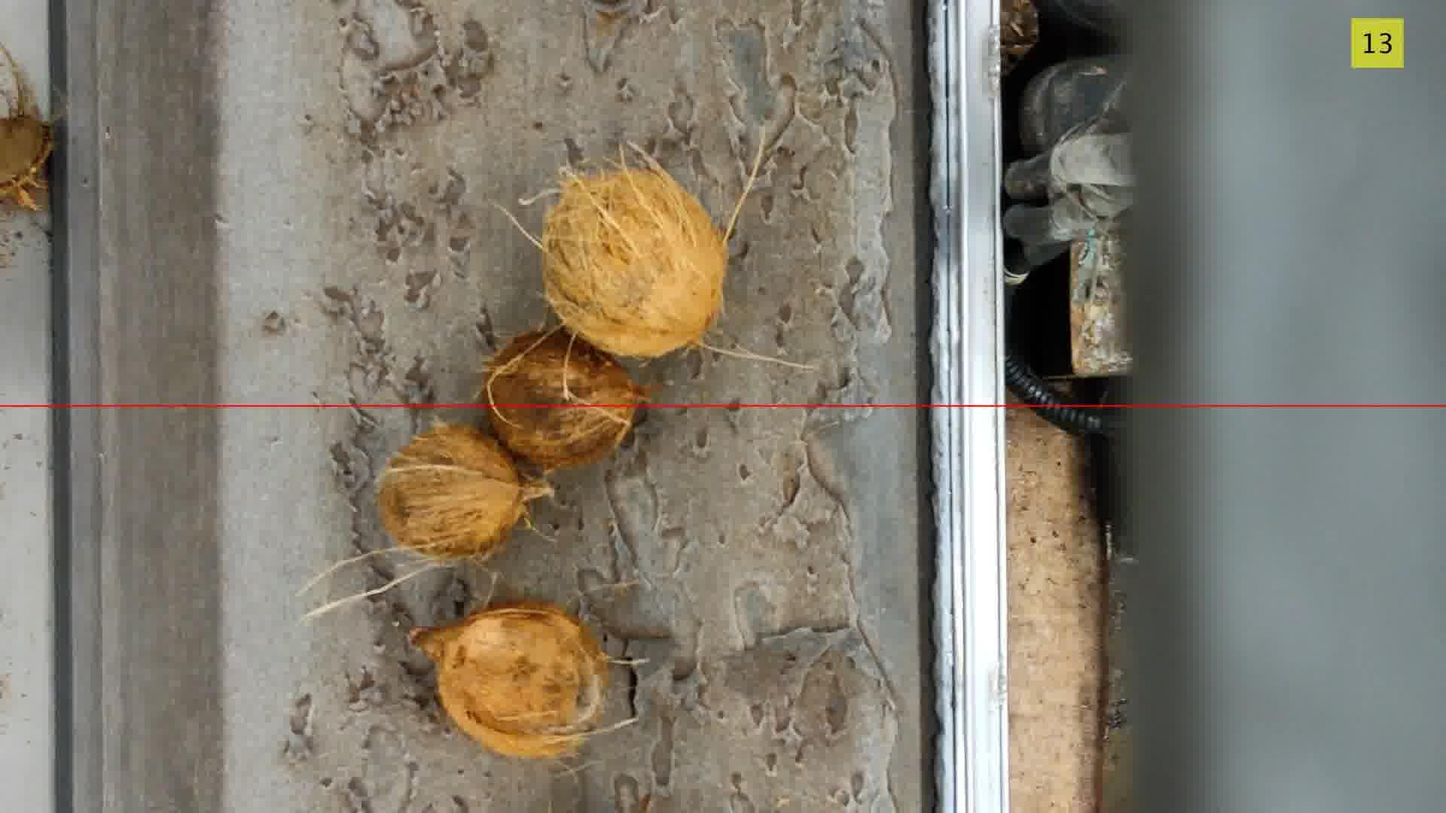Coconut: (545, 168, 720, 356), (411, 602, 607, 758), (378, 423, 550, 558), (485, 330, 642, 469), (0, 45, 53, 209)
